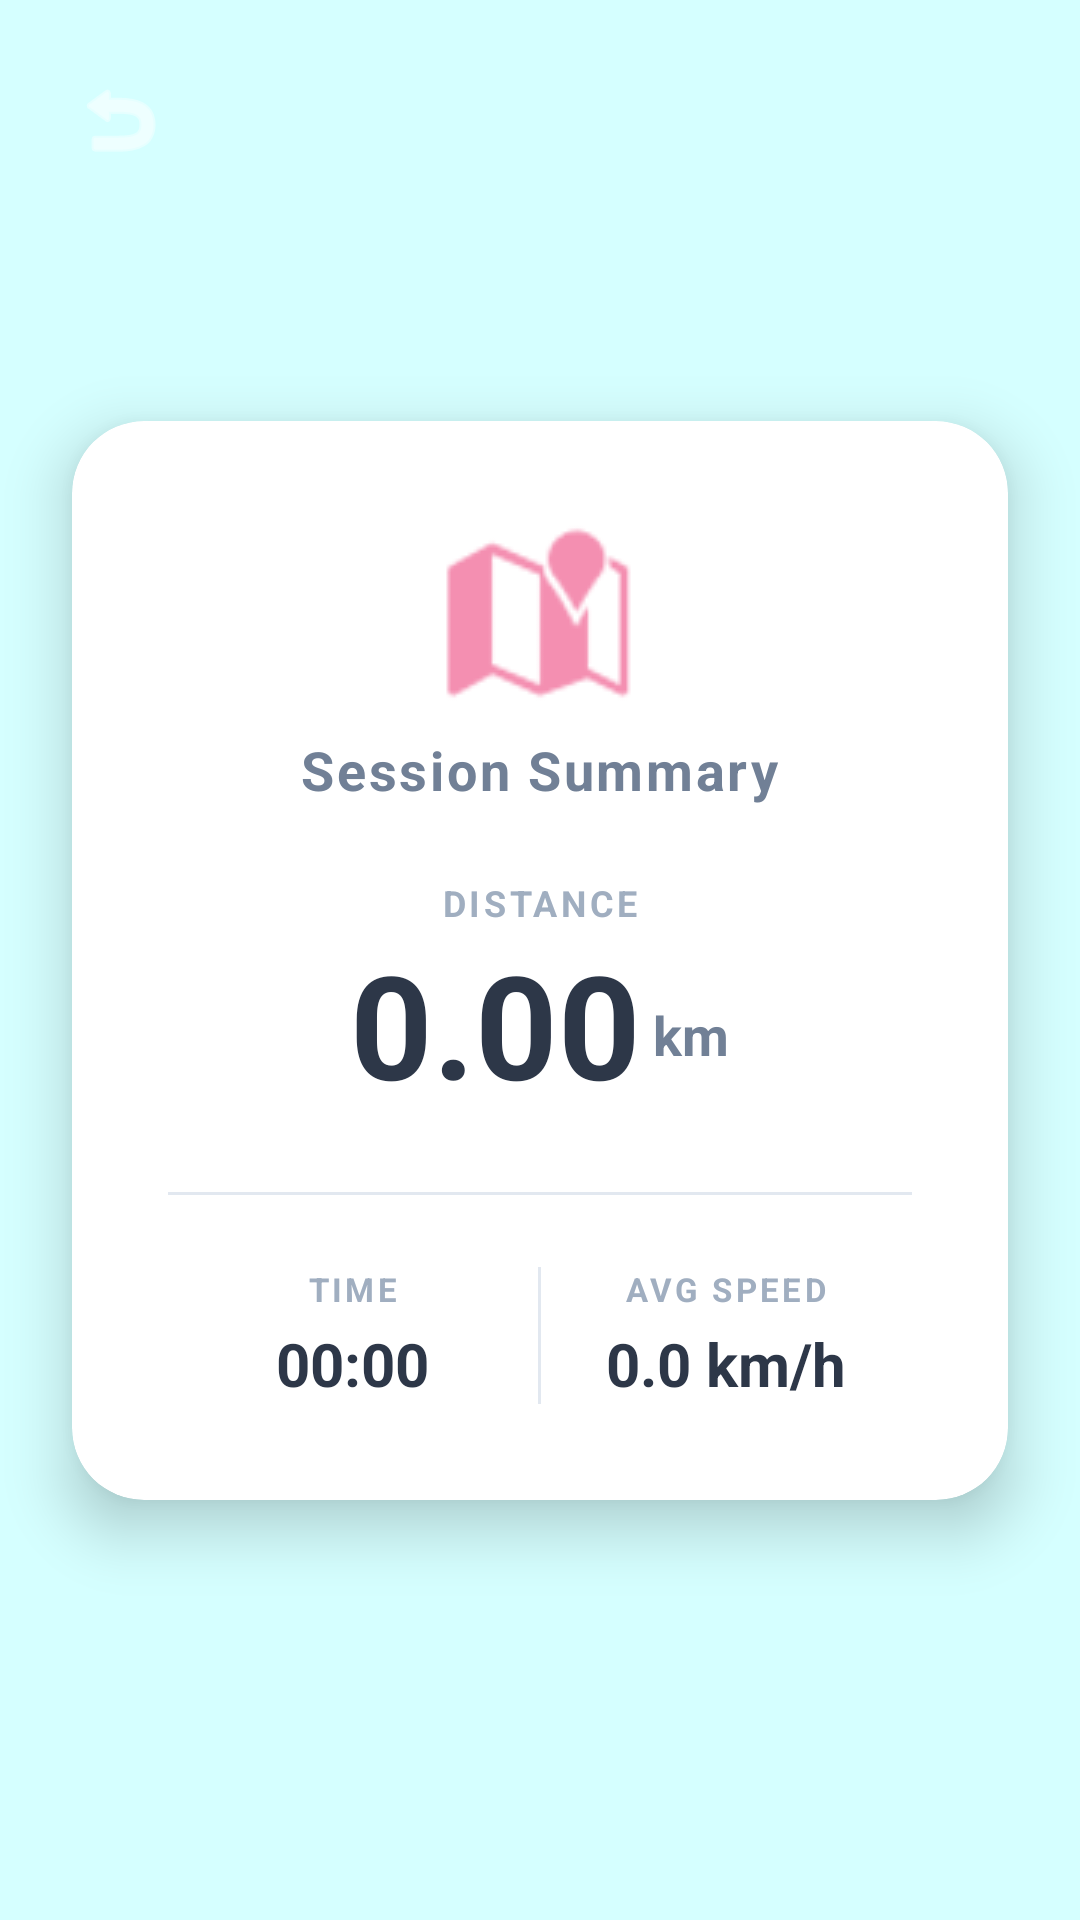

Screen size 1080*1920. Icon name, then its box in pixels as (x1, y1, x2, y2):
map: (447, 529, 630, 697)
revert: (89, 92, 153, 149)
